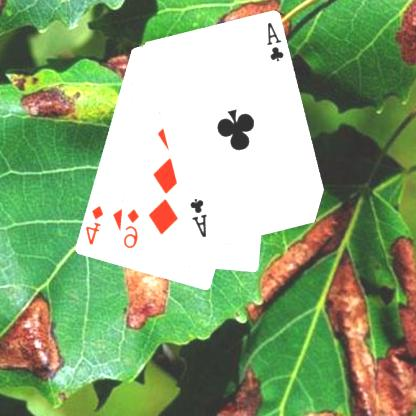4D: (85, 203, 106, 247)
9D: (123, 206, 142, 250)
AC: (265, 20, 287, 64), (188, 196, 210, 239)
